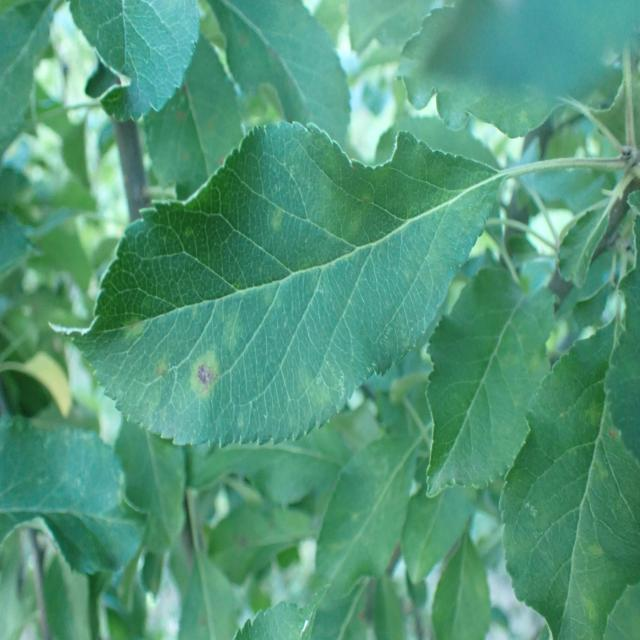scab: (104, 194, 474, 429)
